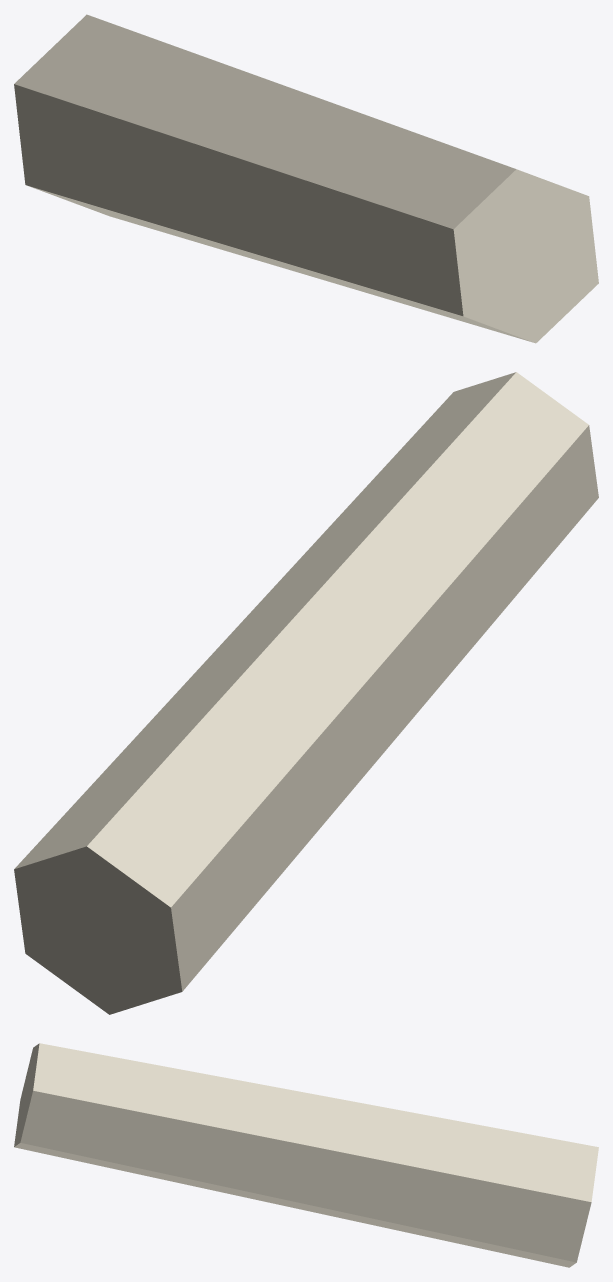
File: rm2_tool_fore.obj
The picture shows the model from 3 angles, top to bottom: view 1: azimuth 30°, elevation 25°; view 2: azimuth 150°, elevation 25°; view 3: azimuth 270°, elevation 25°; orthographic projection. The views are drawn at different scales.
Visible parts, largest first — view 1: rm2_tool_fore; view 2: rm2_tool_fore; view 3: rm2_tool_fore.
Boxes of the visible parts, left/top/right/bottom form: rm2_tool_fore: left=14, top=14, right=598, bottom=343; rm2_tool_fore: left=14, top=372, right=598, bottom=1014; rm2_tool_fore: left=14, top=1043, right=598, bottom=1267.
Bounding box in the file's own units: 0.0381 × 0.08 × 0.1889.
